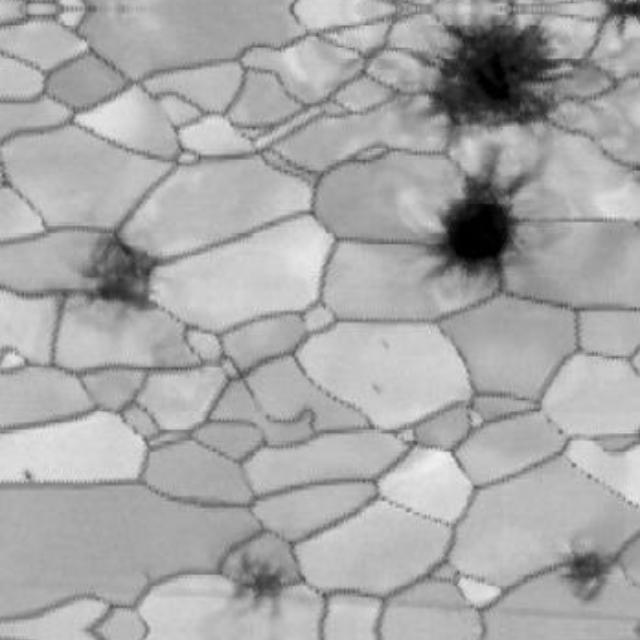good_void: (409, 9, 567, 157), (424, 151, 531, 292), (79, 232, 165, 313), (228, 552, 300, 616), (557, 542, 613, 607), (377, 338, 396, 354), (21, 467, 37, 485), (369, 382, 383, 397)
